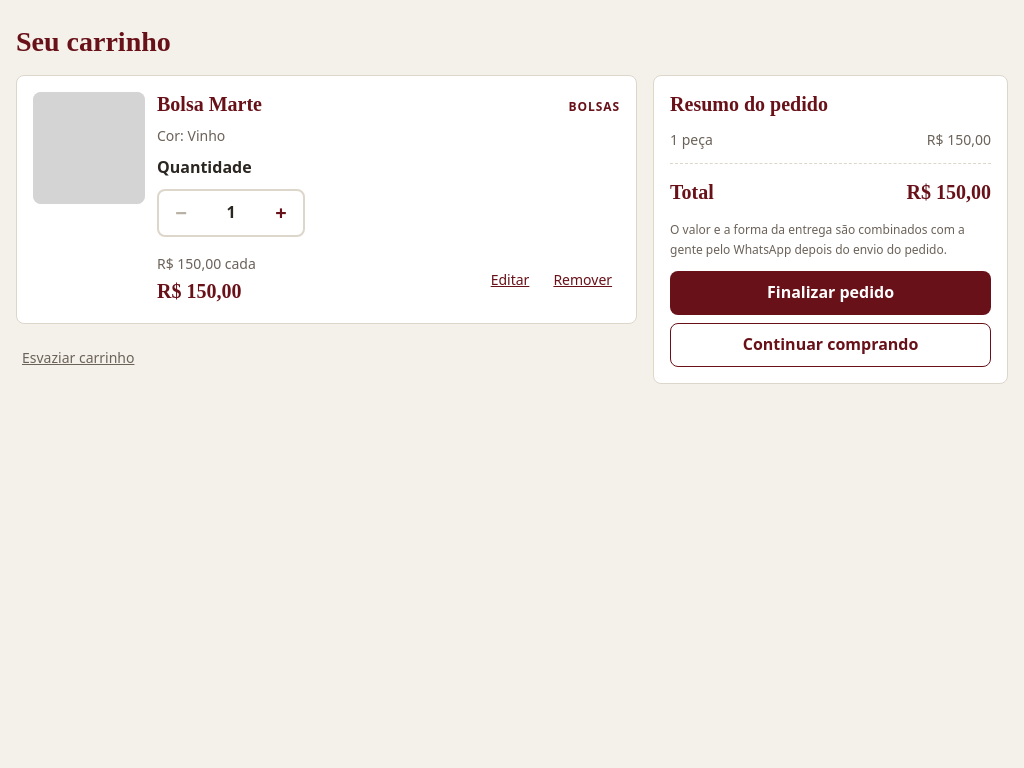
Scenario: CarrinhoPage › esvaziar exige confirmação: cancelar mantém, confirmar limpa
Click the button "Esvaziar carrinho".
click(78, 358)  # box [16,336,140,380]
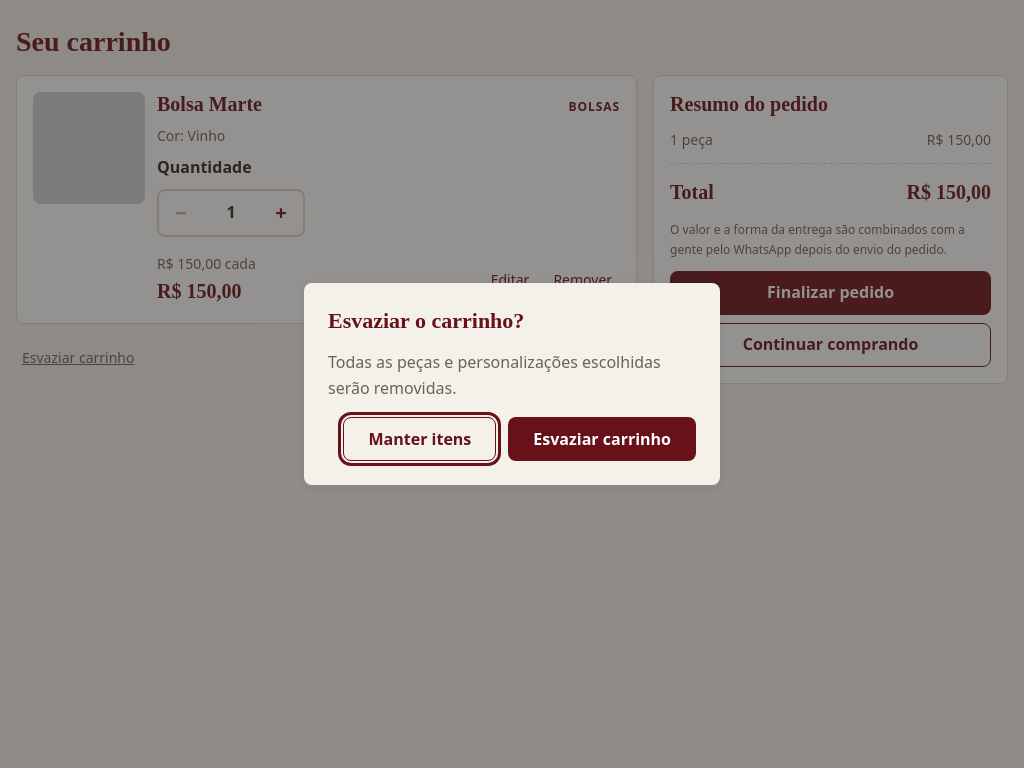
Expected: the heading "Esvaziar o carrinho?" is shown, [328,308,524,333]
Click the button "Manter itens".
click(420, 439)  # box [344,417,496,461]
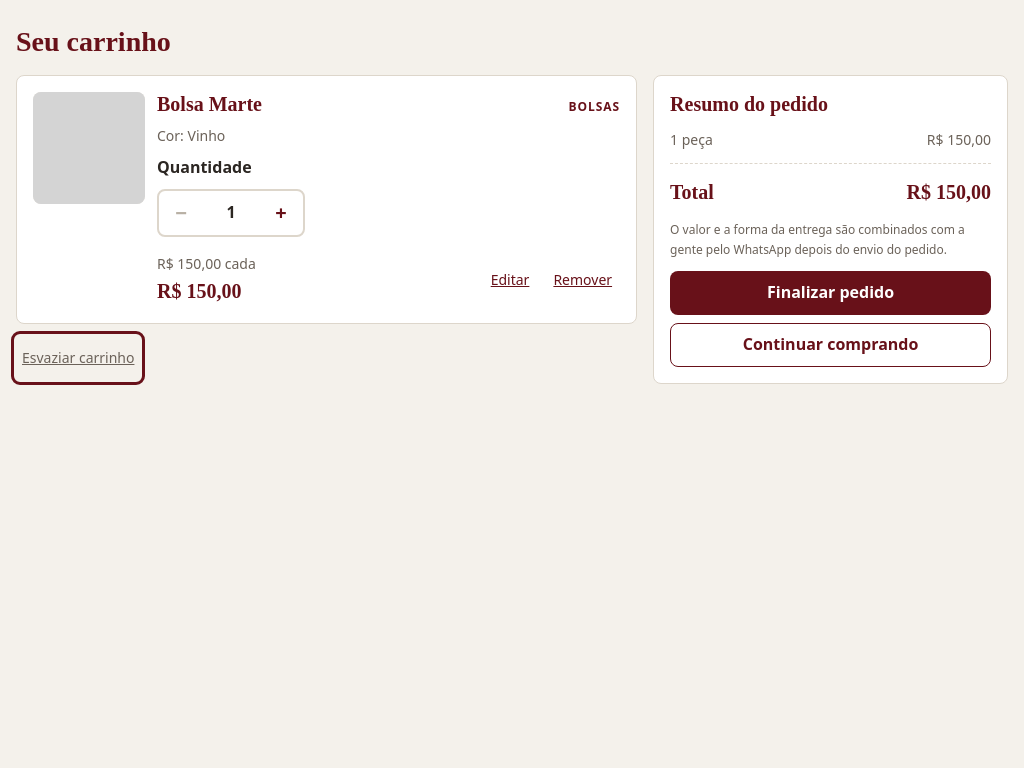
Expected: the heading "Bolsa Marte" is shown, [157,92,262,117]
Click the button "Esvaziar carrinho".
click(78, 358)  # box [16,336,140,380]
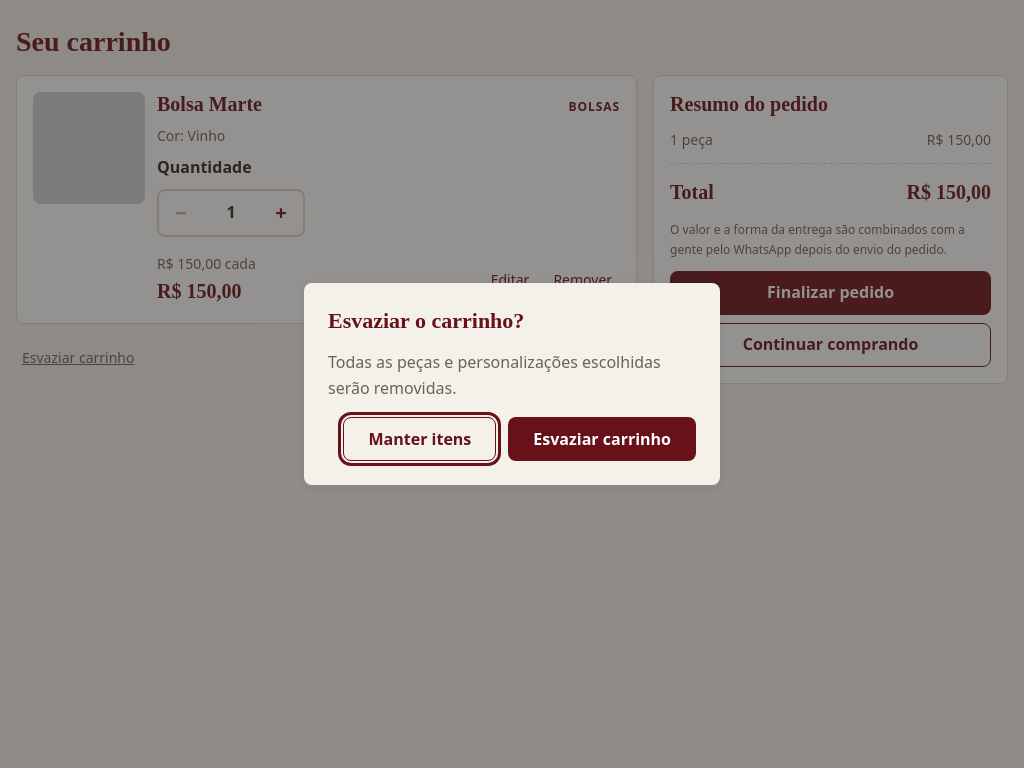
Click the button "Esvaziar carrinho".
click(602, 439)  # box [508,417,696,461]
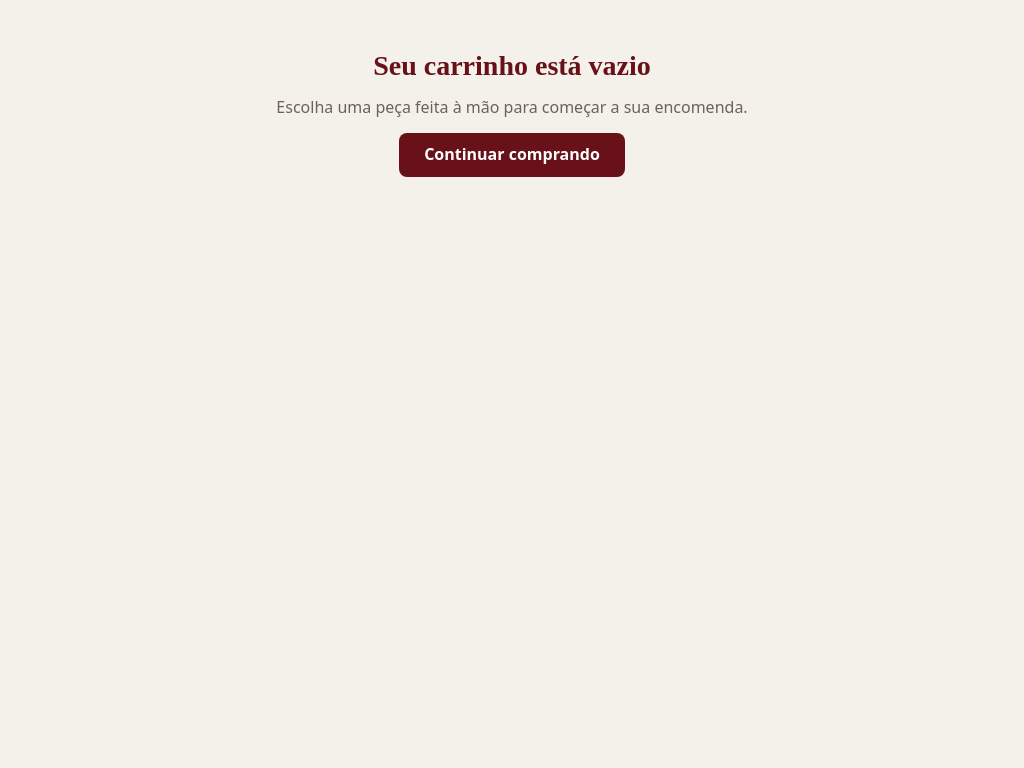
Expected: the heading "Seu carrinho está vazio" is shown, [373,48,651,83]
